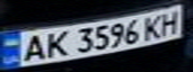3: (72, 25, 96, 54)
5: (93, 21, 115, 51)
6: (121, 17, 145, 45)
9: (109, 20, 127, 47)
A: (15, 32, 51, 63)
H: (154, 8, 187, 36)
K: (39, 28, 72, 60), (139, 12, 169, 39)
